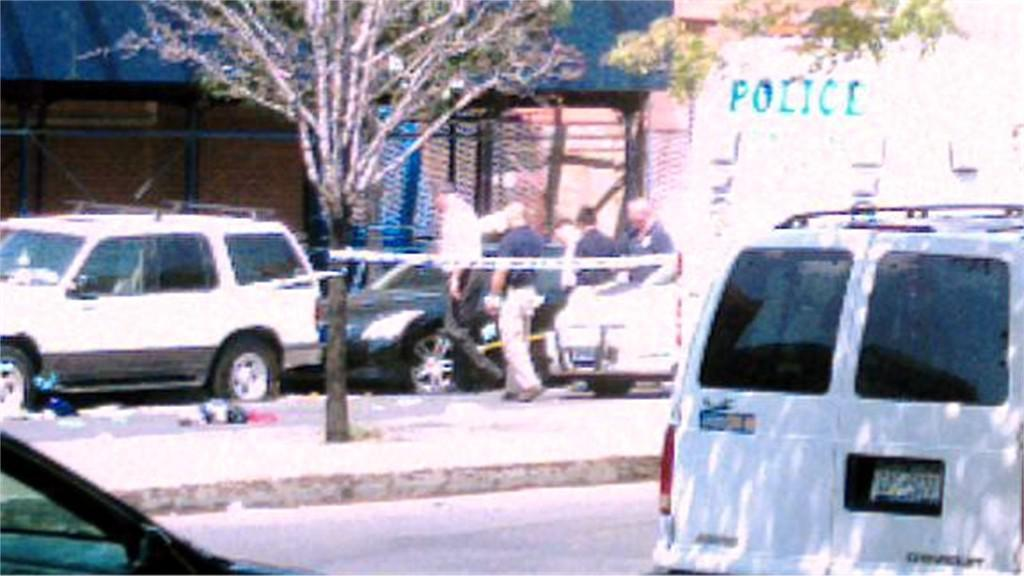bienso: (570, 344, 599, 361)
